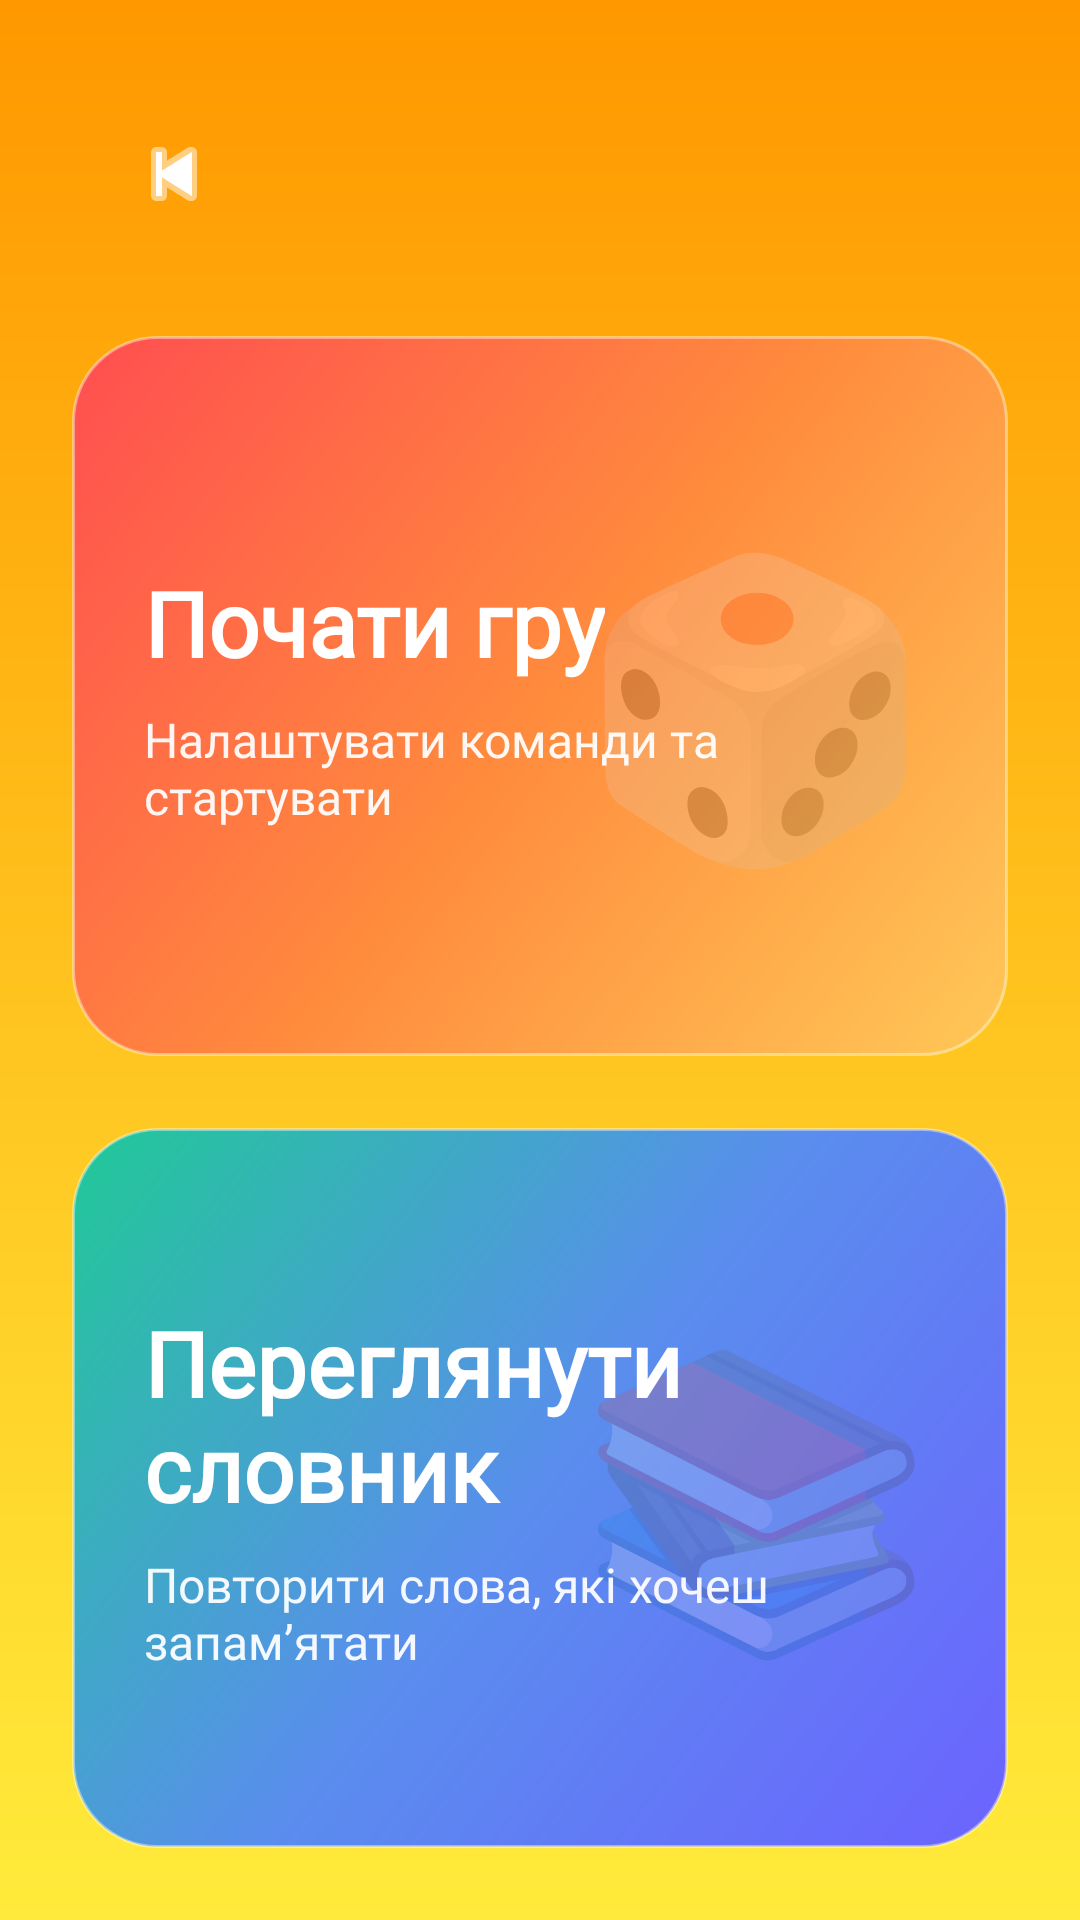

Where icons sit on this 1080px x 1920px app screen, as (x1,y1,x2,y2):
Назад: (151,147,197,201)
